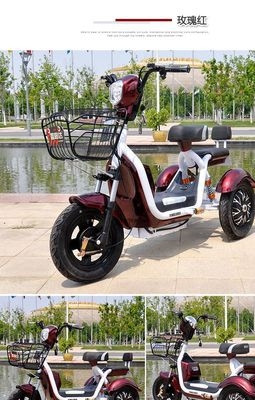non-vehicle: (42, 66, 246, 283), (1, 330, 145, 399), (152, 311, 253, 398)
